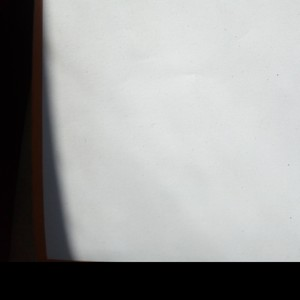base: (43, 2, 299, 262)
